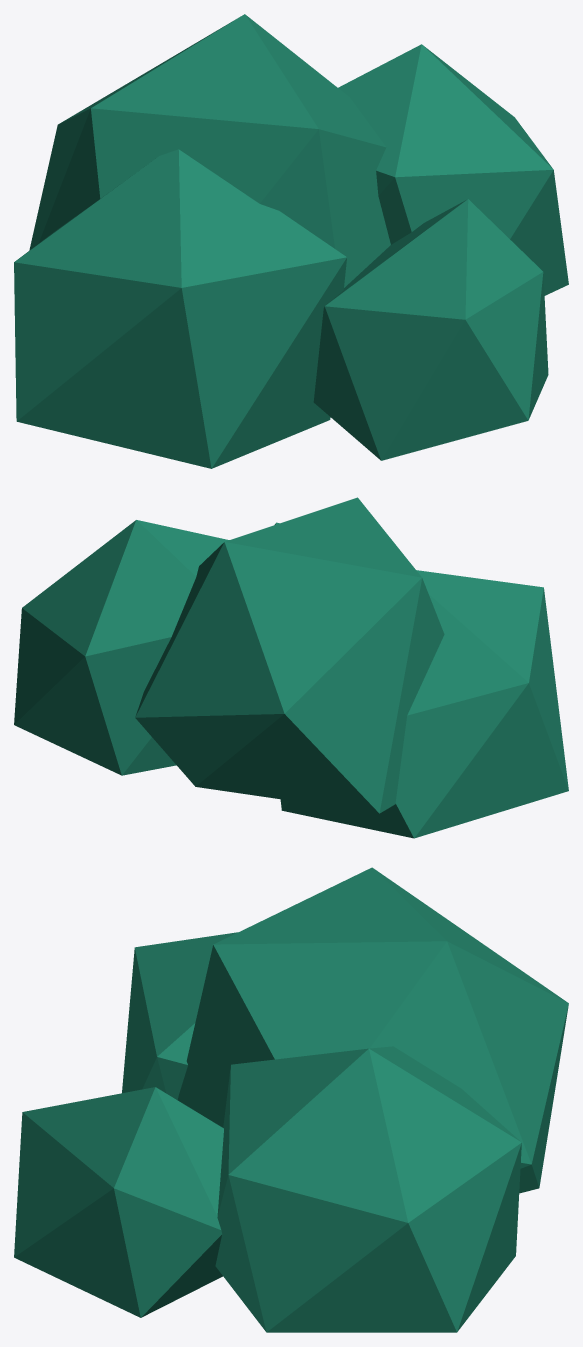
File: bush2.fbx
3 views of the same model, one above another, from view 1: azimuth 30°, elevation 25°; view 2: azimuth 150°, elevation 25°; view 3: azimuth 270°, elevation 25° (orthographic). The views are drawn at different scales.
Visible parts, largest first — view 1: Cube; view 2: Cube; view 3: Cube.
Part boxes in pixels (x1,y1,x2,y2): Cube: (14,14,568,468); Cube: (14,497,568,838); Cube: (14,867,568,1332).
Bounding box in the file's own units: 4.55 × 2.41 × 3.77.
